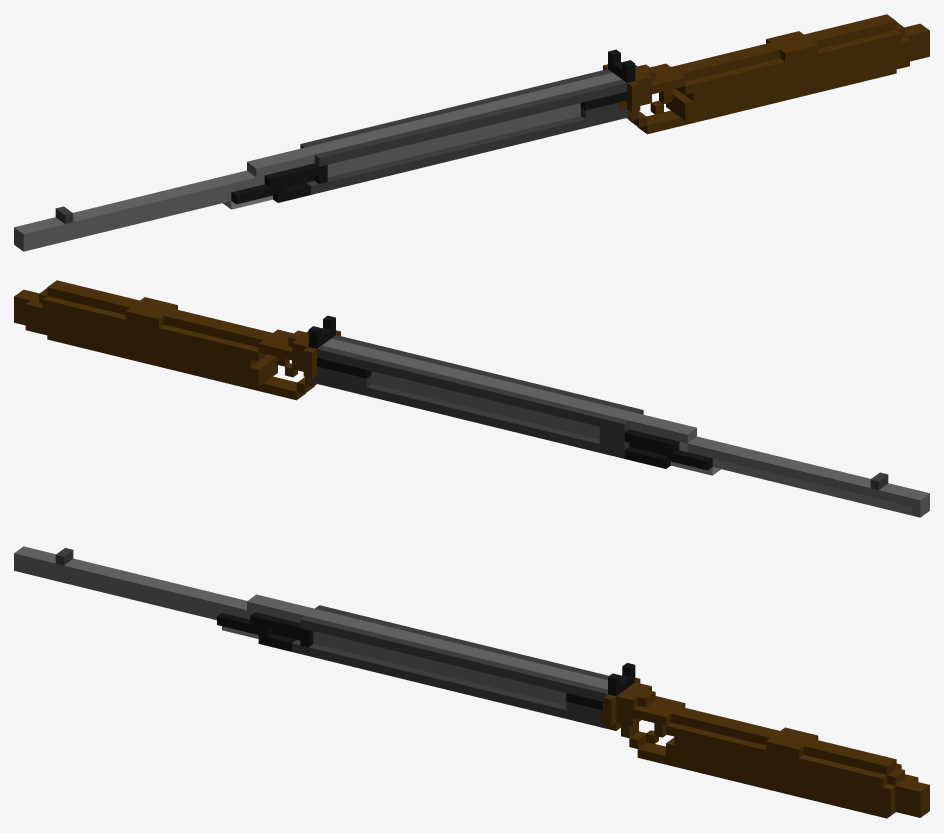
File: rifle_9f0ea94c.glb
The picture shows the model from 3 angles, top to bottom: view 1: azimuth 30°, elevation 25°; view 2: azimuth 150°, elevation 25°; view 3: azimuth 330°, elevation 25°; orthographic projection.
Visible parts, largest first — view 1: Object_2; view 2: Object_2; view 3: Object_2.
Part boxes in pixels (x1,y1,x2,y2): Object_2: (14, 14, 929, 251); Object_2: (14, 280, 929, 517); Object_2: (14, 546, 929, 818).
Size of the model in its own units: 109 by 9 by 6.
1 material, 1 textured.
